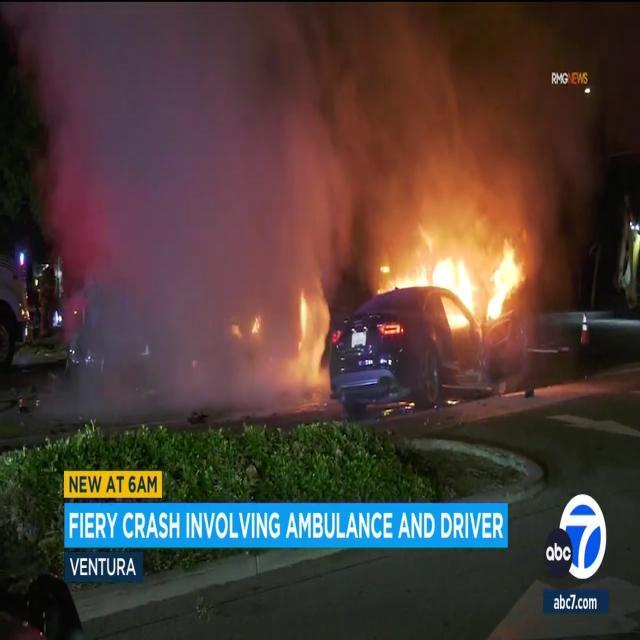Fire: (391, 223, 528, 330), (288, 282, 336, 394)
Smoke: (23, 1, 617, 252)
